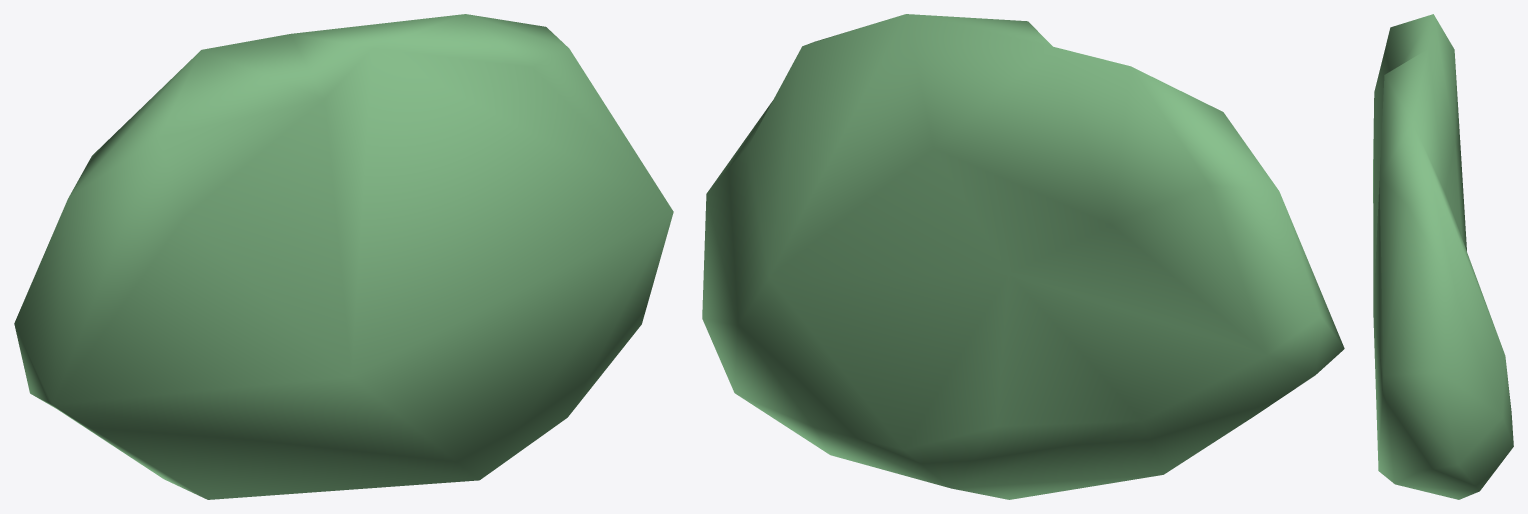
Rendered from rock_001_a.fbx.
3 renders of one model, left to right at view 1: azimuth 30°, elevation 25°; view 2: azimuth 150°, elevation 25°; view 3: azimuth 270°, elevation 25°, orthographic. The views are drawn at different scales.
Visible parts, largest first — view 1: rock_001_a_LOD0; view 2: rock_001_a_LOD0; view 3: rock_001_a_LOD0.
Part boxes in pixels (x1,y1,x2,y2): rock_001_a_LOD0: [14, 14, 673, 499]; rock_001_a_LOD0: [702, 14, 1344, 499]; rock_001_a_LOD0: [1373, 14, 1513, 499].
Bounding box in the file's own units: 120 × 29.23 × 86.05.
